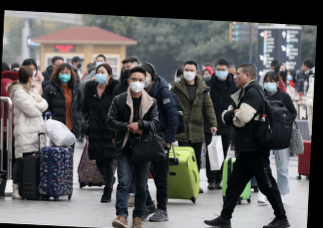with_mask: (127, 76, 145, 92), (120, 63, 135, 80), (93, 69, 108, 84), (56, 68, 71, 82), (262, 78, 277, 92), (182, 66, 196, 81), (214, 66, 228, 80), (94, 57, 105, 69), (277, 66, 287, 78), (29, 75, 36, 89), (28, 66, 37, 76), (74, 59, 81, 68)
without_mask: (233, 69, 245, 88)
